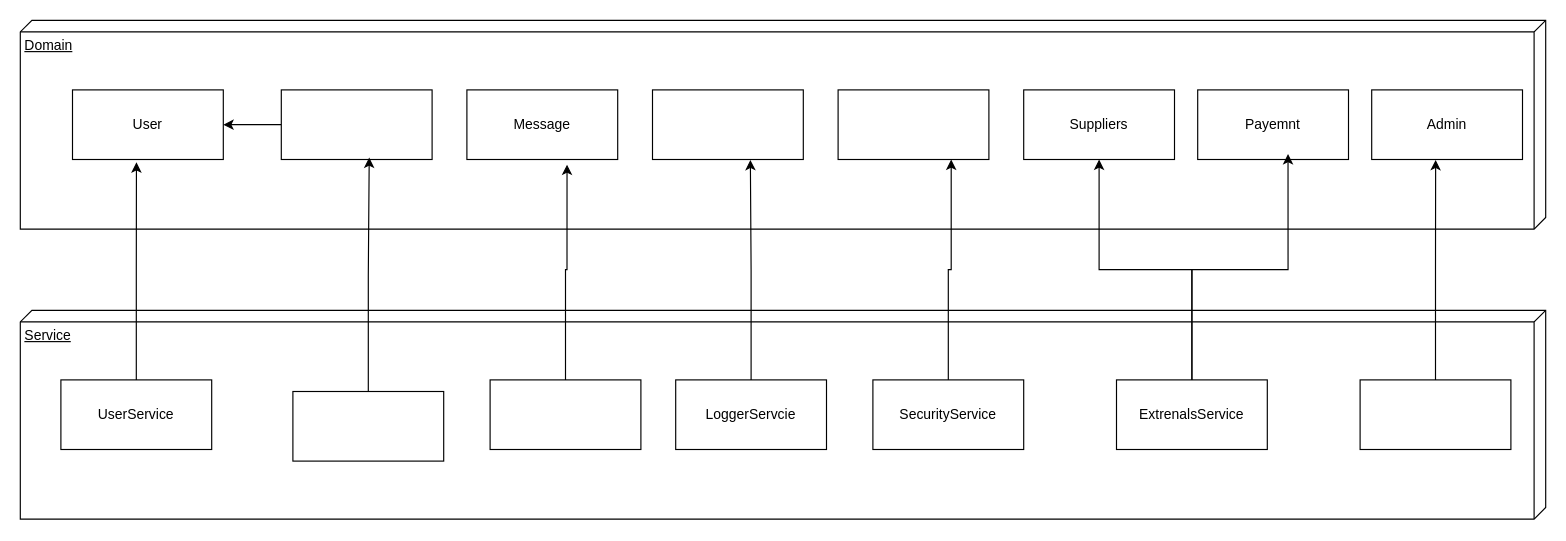
Image size: 1566x541. Some labels were removed from this diagram. The box of each missing label's shape, as (x1, y1, x2, y2) in pixels:
AdminService: (1359, 379, 1511, 449)
Logger: (651, 89, 803, 160)
MessageService: (489, 379, 641, 449)
Security: (837, 89, 989, 160)
Store: (280, 89, 432, 160)
StoreService: (292, 390, 444, 461)
